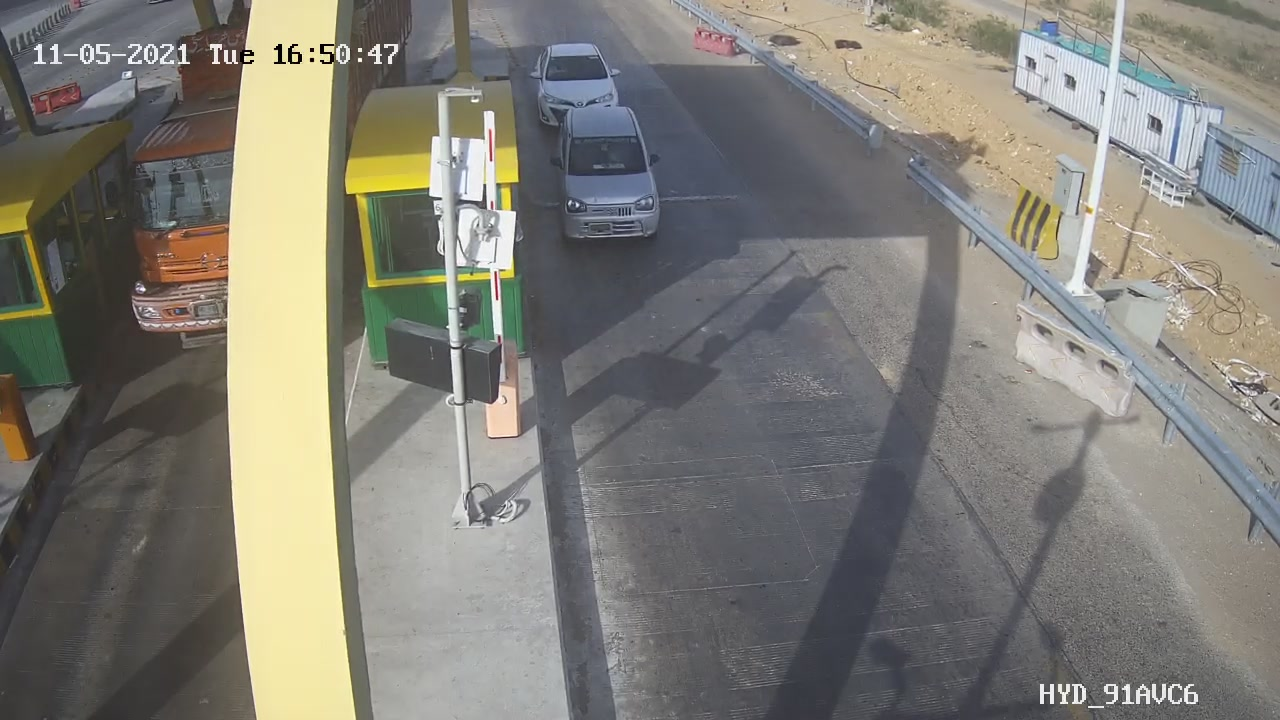F1: (535, 95, 685, 256), (516, 30, 651, 140)
